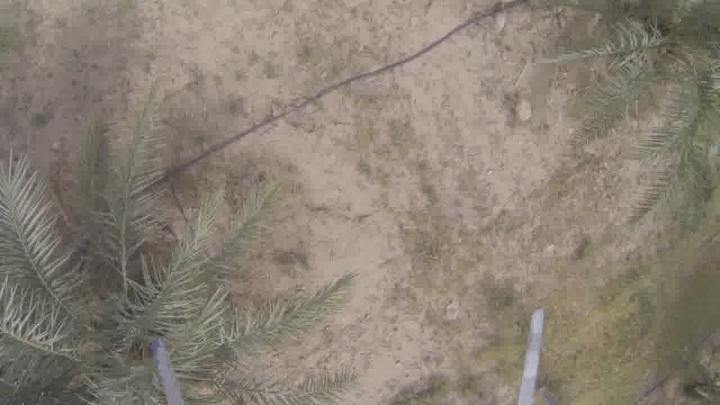Date-Palm-Crown: (0, 236, 218, 404), (606, 0, 719, 66)
